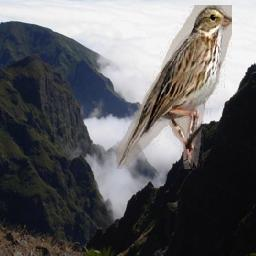Sparrow: (116, 5, 232, 169)
